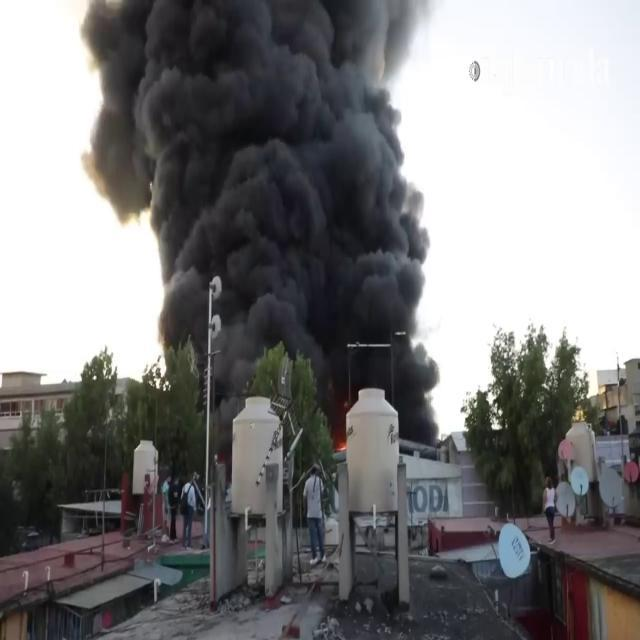Smoke: (79, 0, 446, 414)
